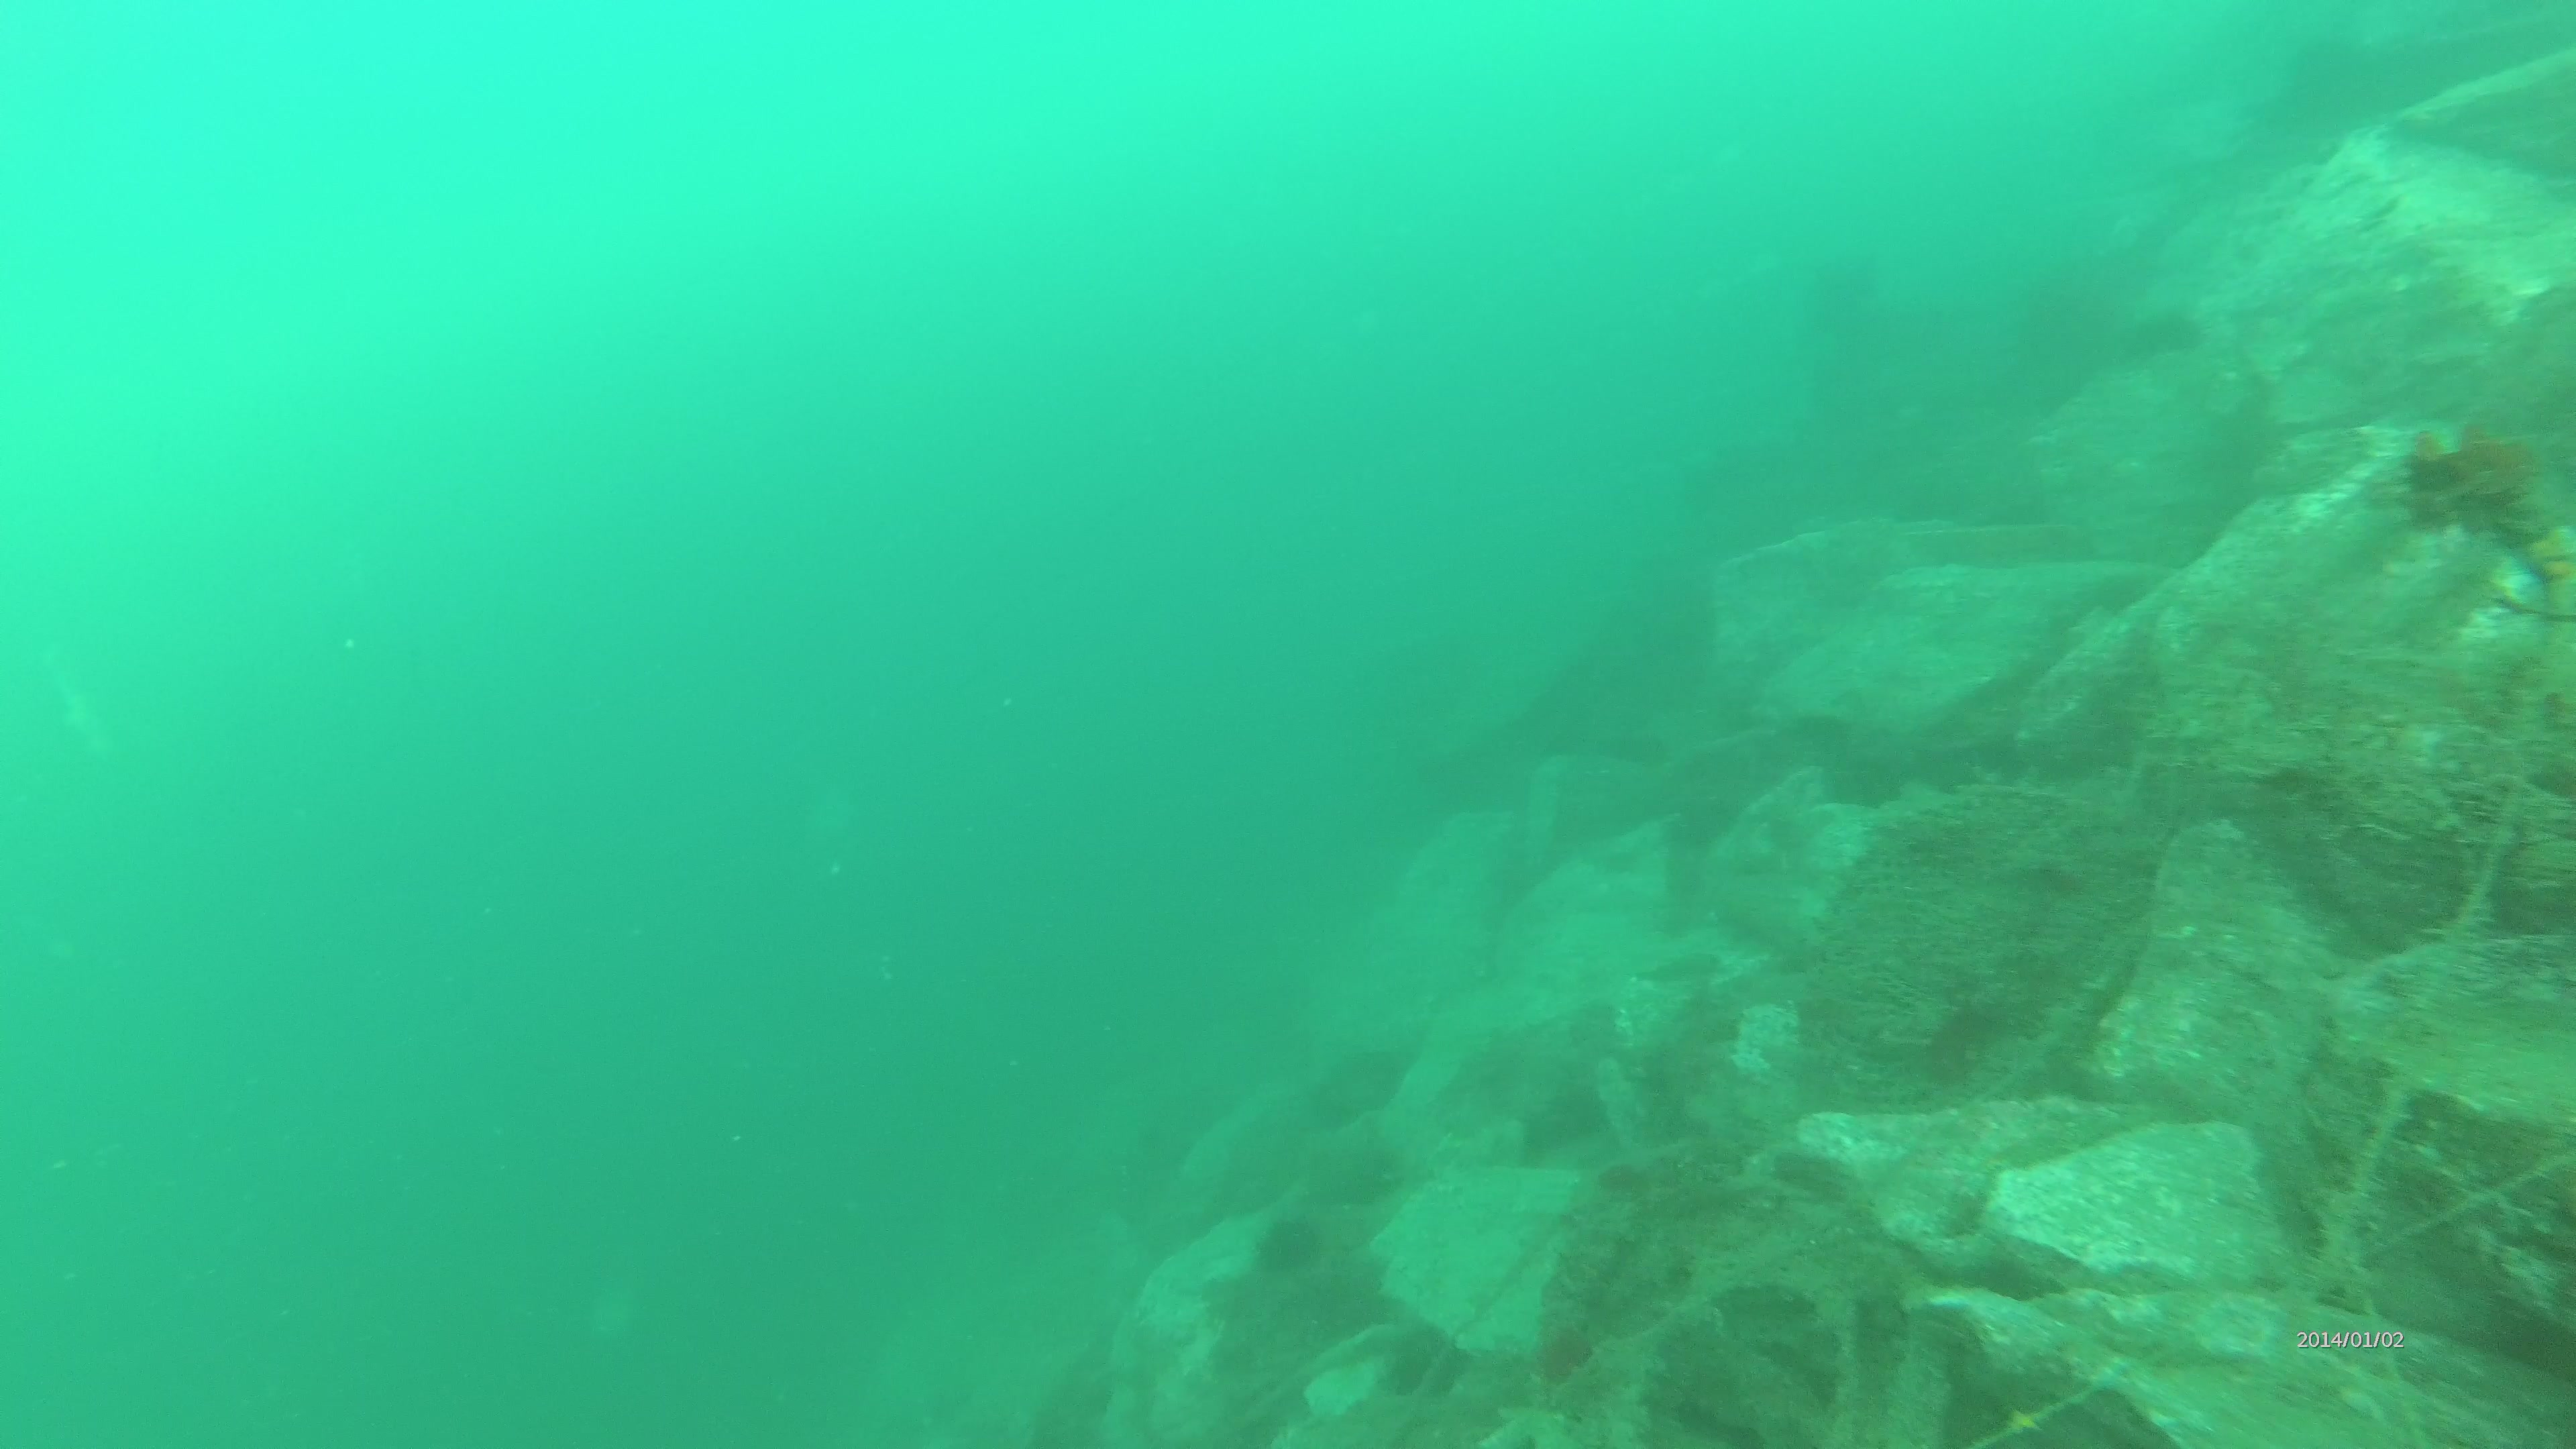echinus: (1300, 1123, 1399, 1214), (2125, 301, 2212, 379), (1254, 1208, 1320, 1269)
